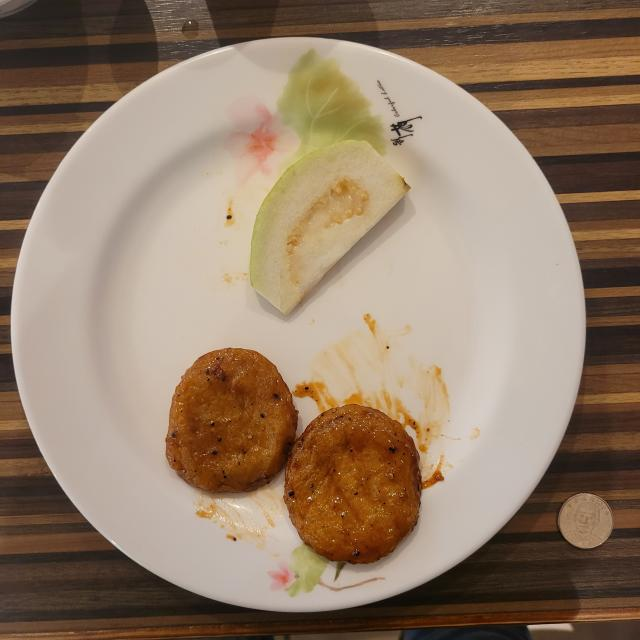coin: (558, 492, 614, 549)
fish cake: (166, 348, 421, 564)
guava -sliced-: (250, 140, 410, 314)
